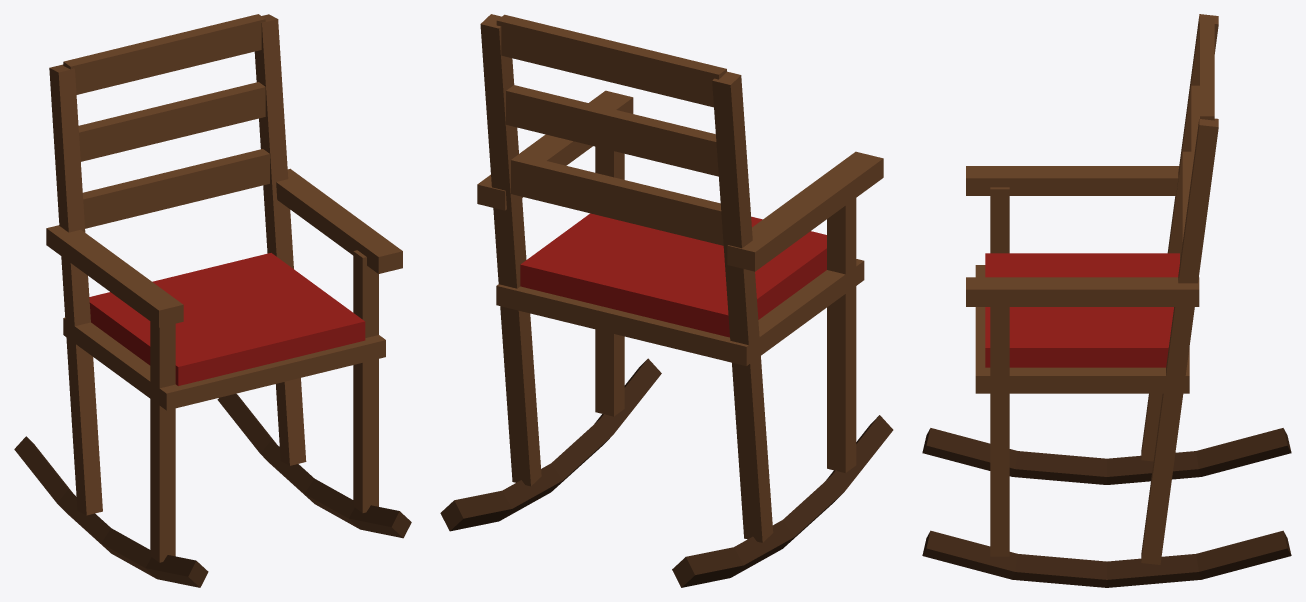
Rendered from SM_Rocking_Chair.obj.
The picture shows the model from 3 angles, left to right: view 1: azimuth 30°, elevation 25°; view 2: azimuth 150°, elevation 25°; view 3: azimuth 270°, elevation 25°; orthographic projection. The views are drawn at different scales.
Parts seen in each view (by area): view 1: SM_Rocking_Chair; view 2: SM_Rocking_Chair; view 3: SM_Rocking_Chair.
Part boxes in pixels (x1,y1,x2,y2): SM_Rocking_Chair: (14,14,411,587); SM_Rocking_Chair: (440,14,893,587); SM_Rocking_Chair: (922,14,1291,587).
Size of the model in its own units: 0.6 by 1.07 by 0.7587.
